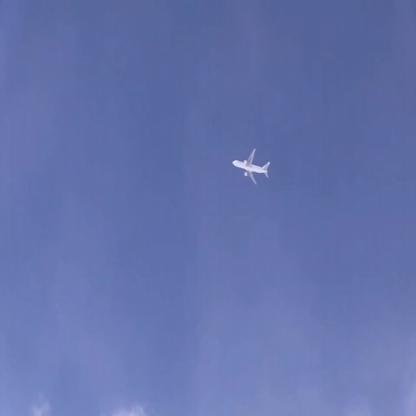CIV_Plane: (232, 150, 270, 186)
